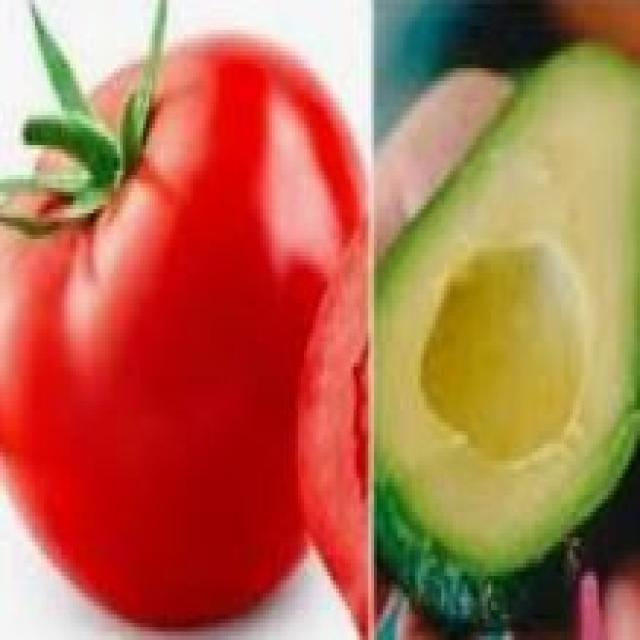Healthy: (2, 26, 352, 610)
